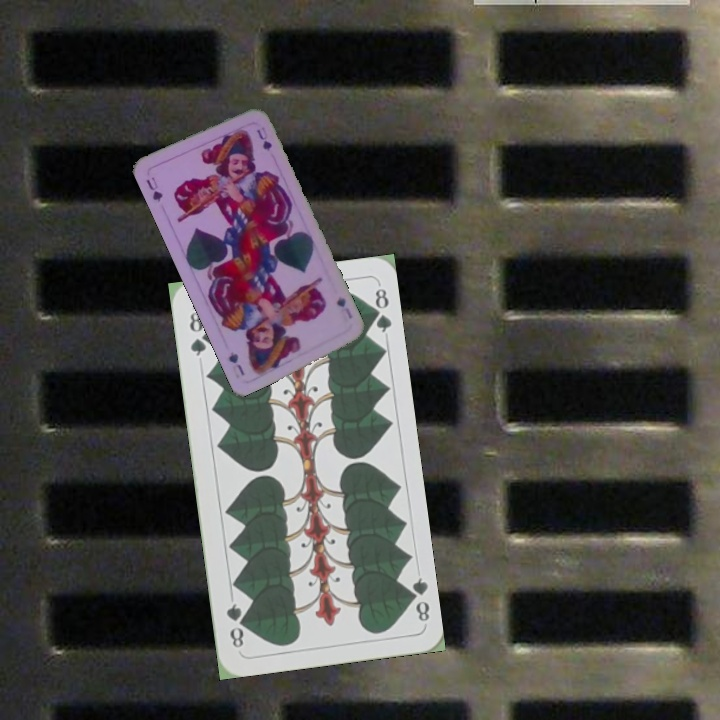G8: (402, 574, 432, 624), (185, 307, 210, 359)
GU: (142, 173, 166, 205), (332, 292, 355, 321)
